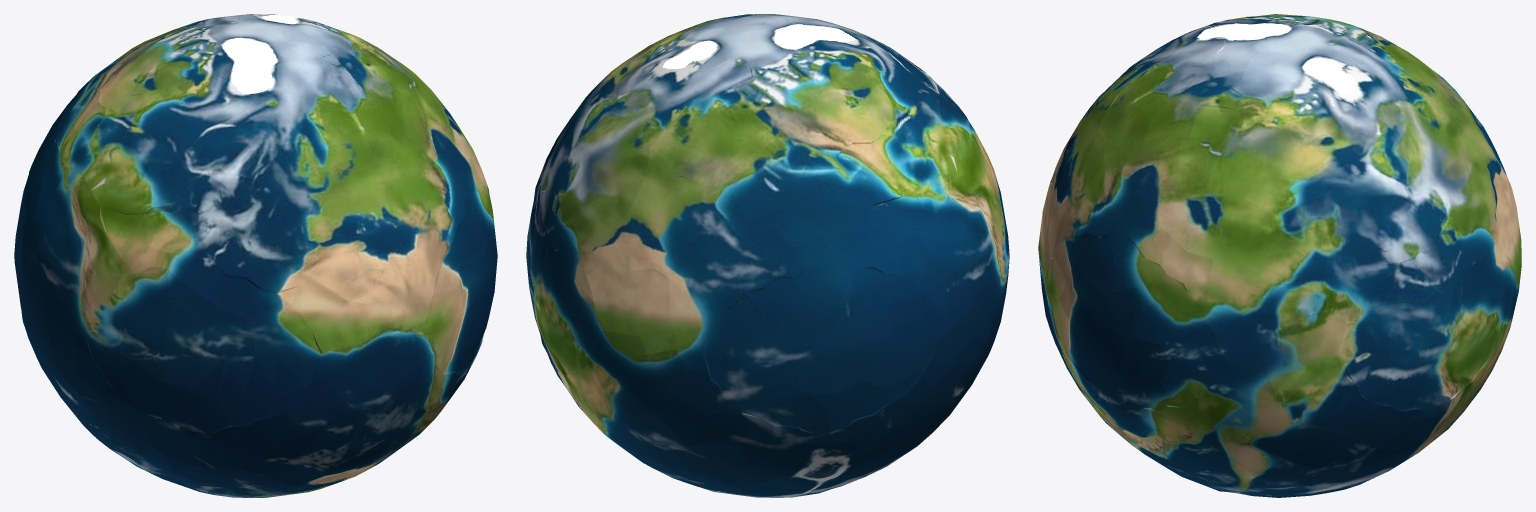
Rendered from planet-ocean.glb.
3 views of the same model, side by side, from view 1: azimuth 30°, elevation 25°; view 2: azimuth 150°, elevation 25°; view 3: azimuth 270°, elevation 25° (orthographic).
Size of the model in its own units: 1.9 by 1.9 by 1.9.
1 material, 1 textured.
